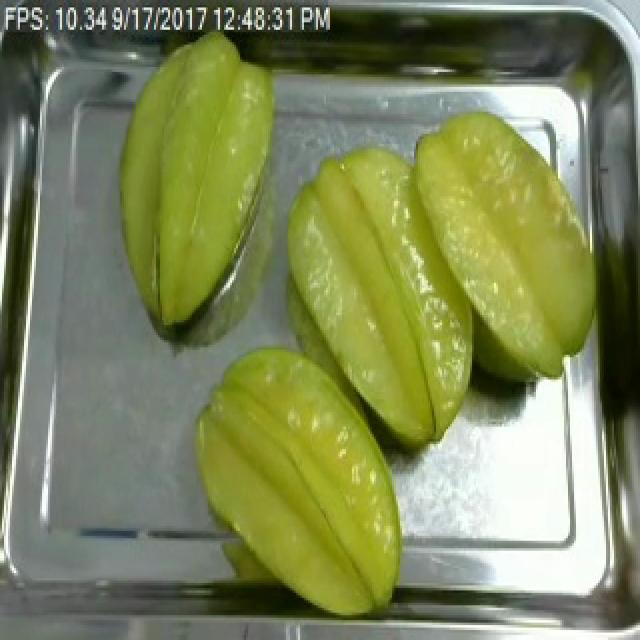fruit: (266, 116, 494, 466), (180, 330, 412, 628), (386, 100, 616, 400), (102, 22, 286, 342)
